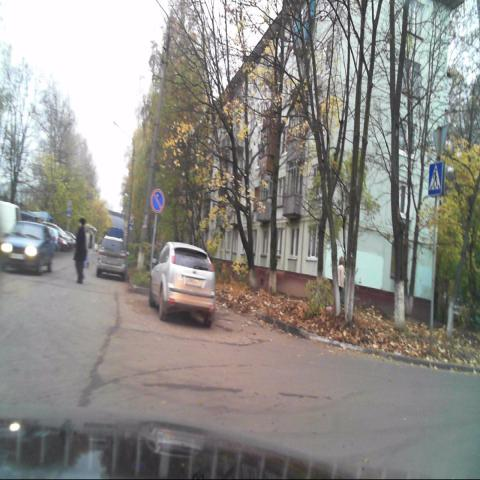3_28: (152, 188, 165, 214)
5_19_1: (429, 163, 444, 196)
